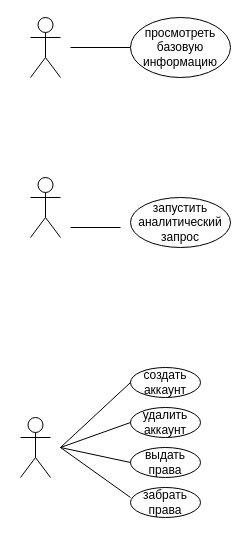
Some shapes in this 248 by 535 pixel diagram are drawn without their labels. Each missing label, with the centre of its shape:
"Админ" goes at (x=35, y=447).
"Аналитик" goes at (x=45, y=207).
"Гость" goes at (x=45, y=47).
